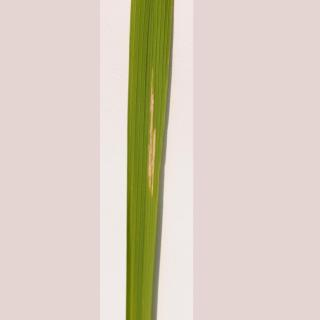Hawar-Daun: (140, 62, 160, 196)
